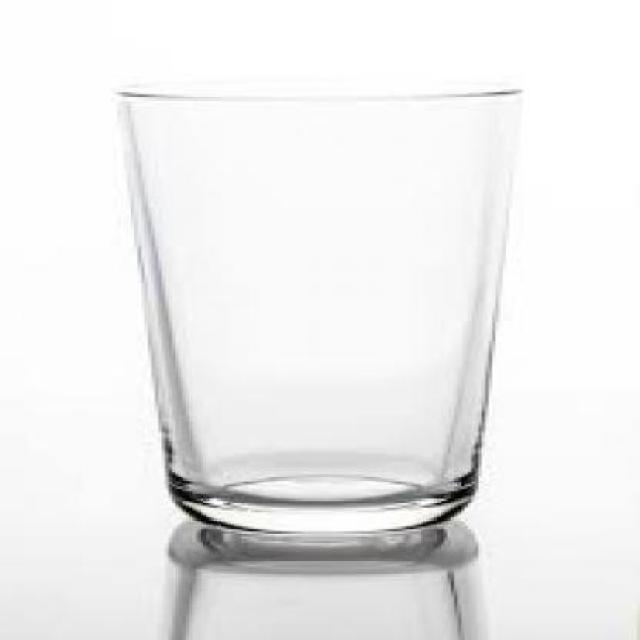kaca: (114, 86, 515, 532)
